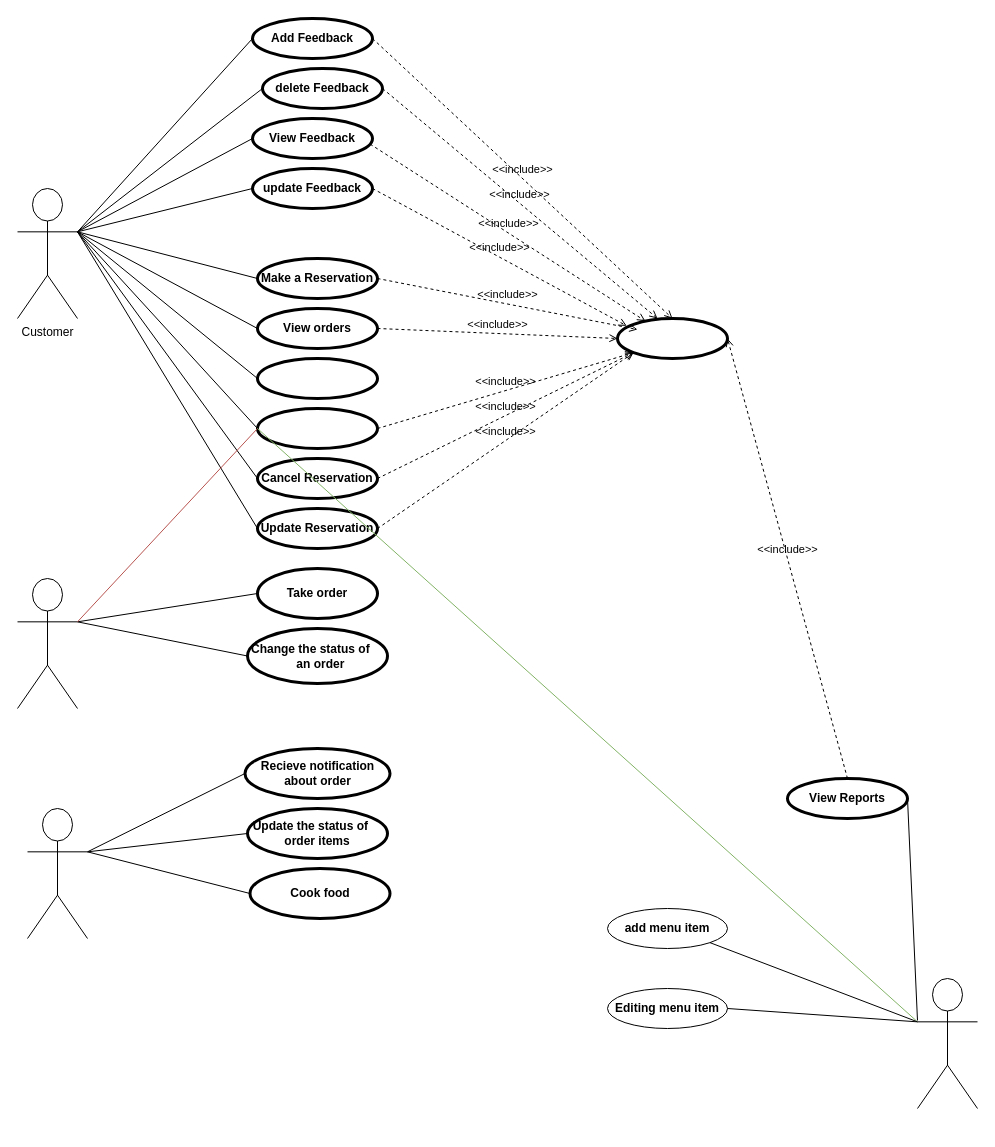
The diagram is 995 pixels wide and 1147 high, and some of its shapes have lost their labels. The centre of each missing label's shape, as x and y in pixels:
"Admin" belongs at point (947, 1043).
"Kitchen staff" belongs at point (57, 873).
"Login" belongs at point (672, 338).
"View menu" belongs at point (317, 378).
"View Reservations" belongs at point (317, 428).
"Waiter" belongs at point (47, 643).
